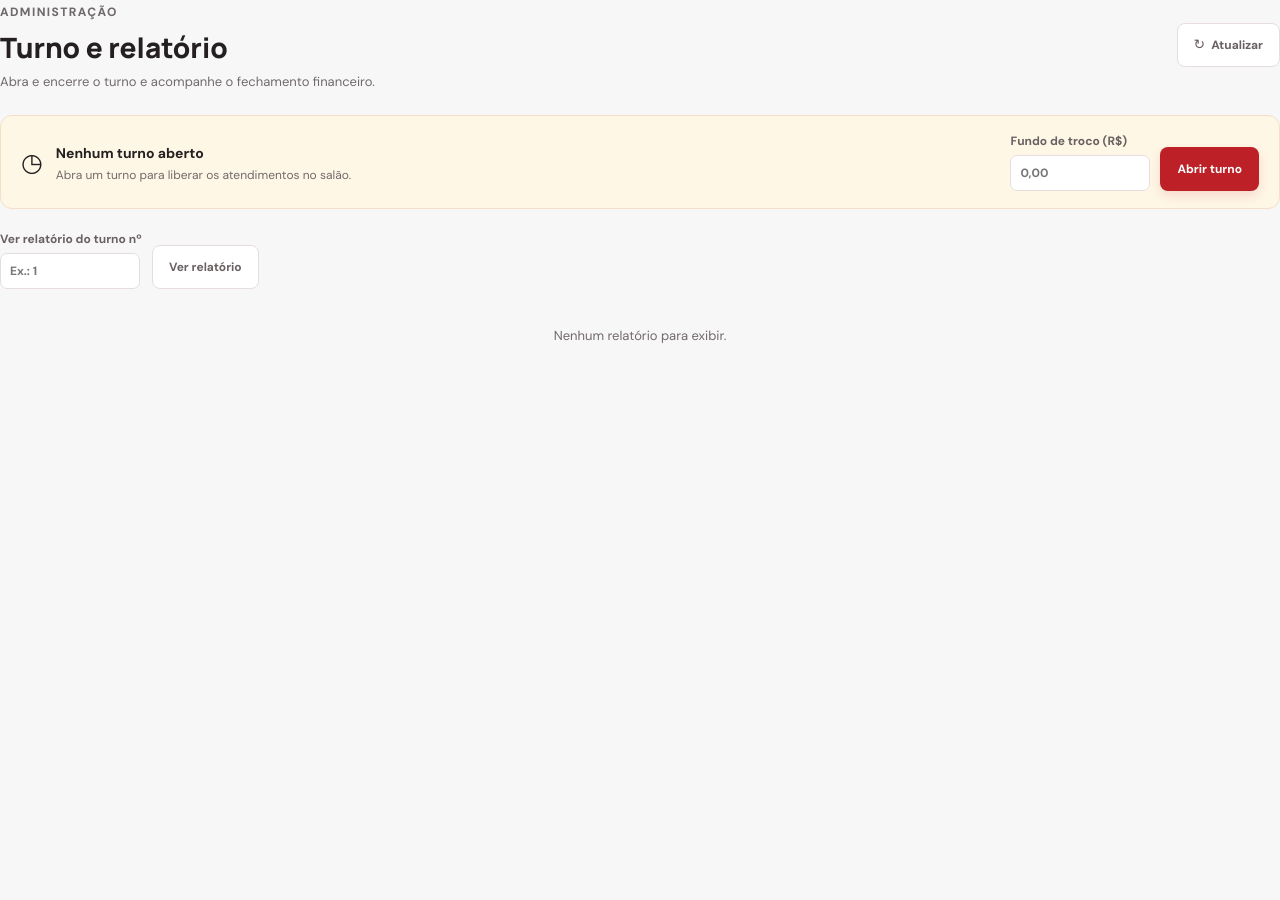
Insumos, ficha técnica e CMV (RN-15) › relatório do turno mostra o CMV, a margem, as perdas e a cobertura das fichas
The image size is (1280, 900).
Type "5" into the field labelled "Ver relatório do turno nº" at (70, 271), box [0,253,140,289]
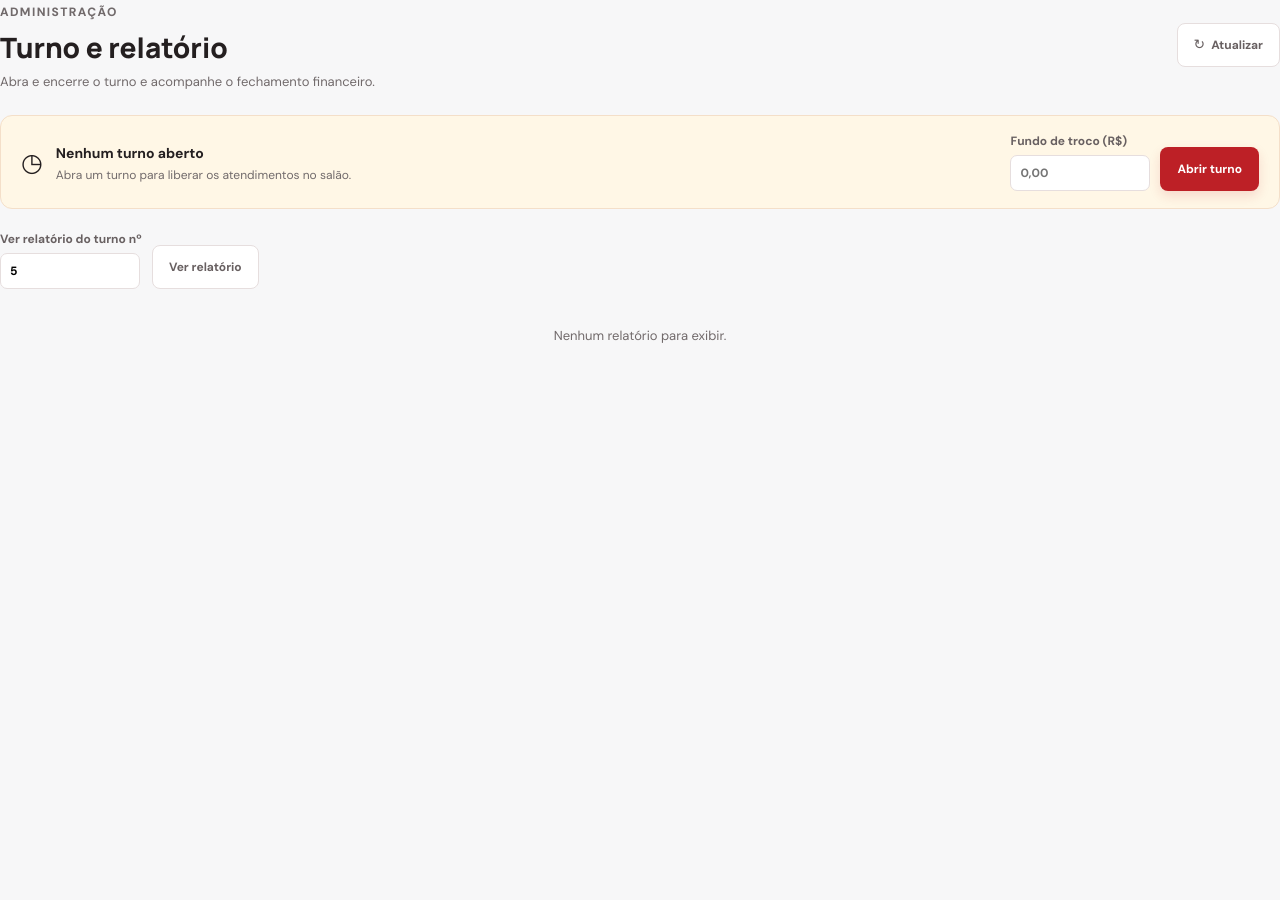
Click the button "Ver relatório" at (205, 267), box [152,245,259,289]
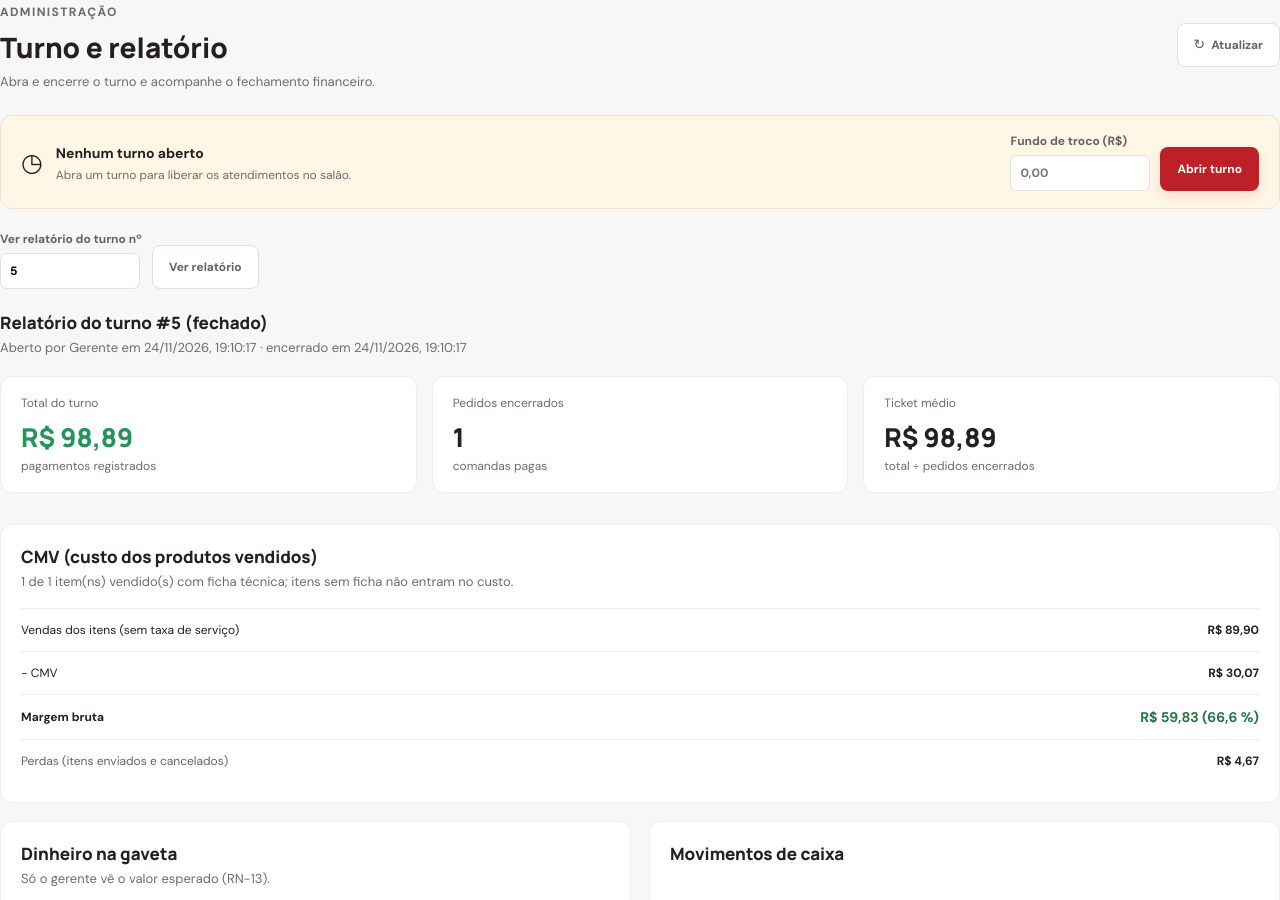
Now the element "CMV (custo dos produtos vendidos)" shows "1 de 1 item(ns) vendido(s) com ficha técnica", box [0,524,1279,803]
